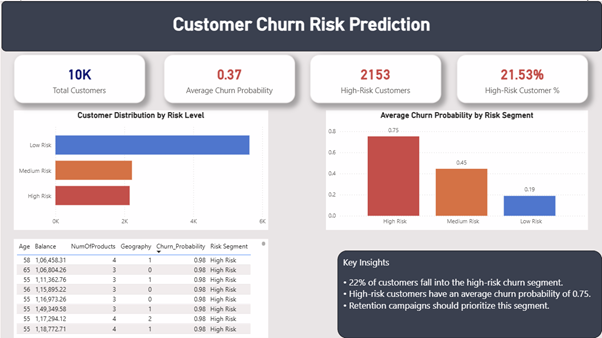

The dashboard page shown, as its layout file describes it:
{"tool":"powerbi","page":{"name":"Machine Learning Risk Prediction","canvas":[1280,720],"ordinal":2},"visuals":[{"type":"clusteredBarChart","title":"Customer Distribution by Risk Level","fields":{"Category":["customer_churn_scores.Risk Segment"],"Y":["customer_churn_scores.Total Cust"]},"box":[26.1,233.3,451.5,223.7],"z":0},{"type":"clusteredColumnChart","title":"Average Churn Probability by Risk Segment","fields":{"Y":["Avg(customer_churn_scores.Churn_Probability)"],"Category":["customer_churn_scores.Risk Segment"]},"box":[837.1,233.3,433.6,274.4],"z":1000},{"type":"tableEx","fields":{"Values":["customer_churn_scores.Age","customer_churn_scores.Balance","customer_churn_scores.NumOfProducts","customer_churn_scores.Geography","customer_churn_scores.Churn_Probability","customer_churn_scores.Risk Segment"]},"box":[26.1,469.3,533.8,249.7],"z":2000},{"type":"textbox","box":[0,0,1280.3,96.1],"z":3000},{"type":"card","fields":{"Values":["Avg(customer_churn_scores.Churn_Probability)"]},"box":[345.5,107.1,279.9,104.3],"z":4000},{"type":"card","fields":{"Values":["customer_churn_scores.High Risk Customers"]},"box":[657,107.1,279.9,104.3],"z":5000},{"type":"card","fields":{"Values":["customer_churn_scores.Total Cust"]},"box":[25.8,107.1,279.9,104.3],"z":6000},{"type":"card","fields":{"Values":["customer_churn_scores.High Risk %"]},"box":[969.9,107.1,279.9,104.3],"z":7000},{"type":"textbox","box":[716.5,532.9,563.8,186.9],"z":8000}]}

Visuals, with their boxes in screenshot pixels (x1, y1, x2, y2), scaled from the page's 1280x720 canvas onto the 602x338 screenshot:
"Customer Distribution by Risk Level" clusteredBarChart: [left=12, top=110, right=225, bottom=215]
"Average Churn Probability by Risk Segment" clusteredColumnChart: [left=394, top=110, right=598, bottom=238]
tableEx - customer_churn_scores.Age x customer_churn_scores.Balance: [left=12, top=220, right=263, bottom=337]
textbox: [left=0, top=0, right=601, bottom=45]
card - Avg(customer_churn_scores.Churn_Probability): [left=162, top=50, right=294, bottom=99]
card - customer_churn_scores.High Risk Customers: [left=309, top=50, right=441, bottom=99]
card - customer_churn_scores.Total Cust: [left=12, top=50, right=144, bottom=99]
card - customer_churn_scores.High Risk %: [left=456, top=50, right=588, bottom=99]
textbox: [left=337, top=250, right=601, bottom=337]
